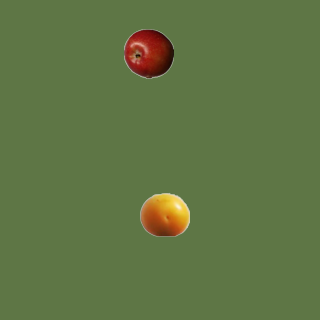Apple Braeburn: (123, 28, 173, 78)
Cherry Wax Yellow: (139, 189, 189, 239)
